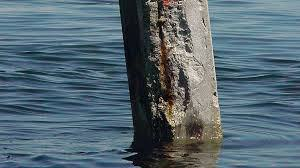Exposed reinforcement: (159, 22, 175, 106)
Spalling: (143, 1, 195, 128)
